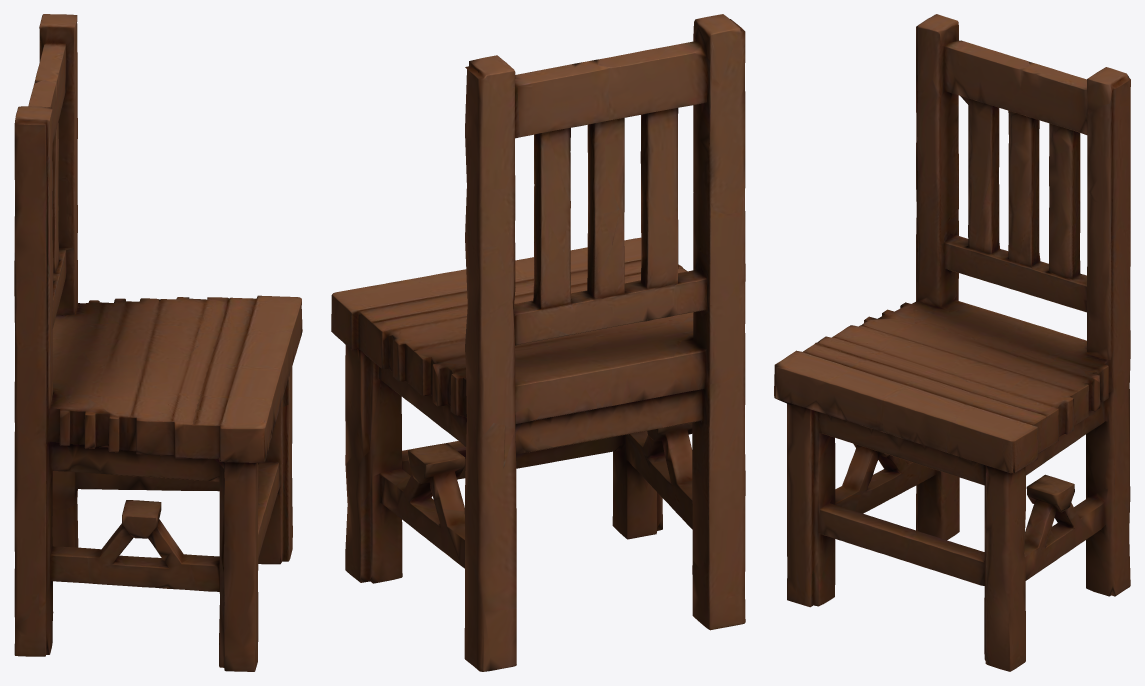
The model's file is chair.glb.
3 views of the same model, side by side, from view 1: azimuth 30°, elevation 25°; view 2: azimuth 150°, elevation 25°; view 3: azimuth 270°, elevation 25° (orthographic). The views are drawn at different scales.
Parts seen in each view (by area): view 1: tripo_node_308d174e-7e14-4fa7-aaa0-7cbe5fb6d4bc; view 2: tripo_node_308d174e-7e14-4fa7-aaa0-7cbe5fb6d4bc; view 3: tripo_node_308d174e-7e14-4fa7-aaa0-7cbe5fb6d4bc.
Part boxes in pixels (left/top/right/bottom): tripo_node_308d174e-7e14-4fa7-aaa0-7cbe5fb6d4bc: left=14, top=14, right=302, bottom=671; tripo_node_308d174e-7e14-4fa7-aaa0-7cbe5fb6d4bc: left=331, top=14, right=745, bottom=671; tripo_node_308d174e-7e14-4fa7-aaa0-7cbe5fb6d4bc: left=774, top=14, right=1130, bottom=671.
Size of the model in its own units: 0.6421 by 1 by 0.6319.
1 material, 1 textured.
